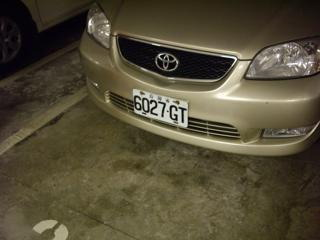plate: (131, 87, 189, 129)
